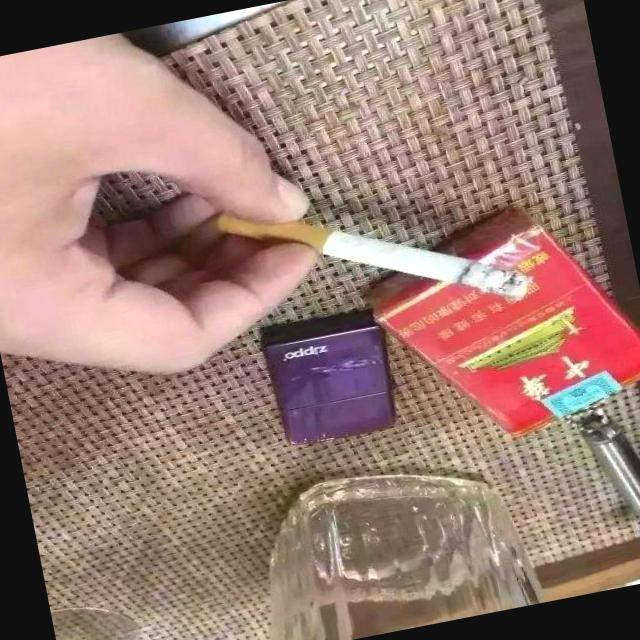smoke: (202, 131, 550, 366)
